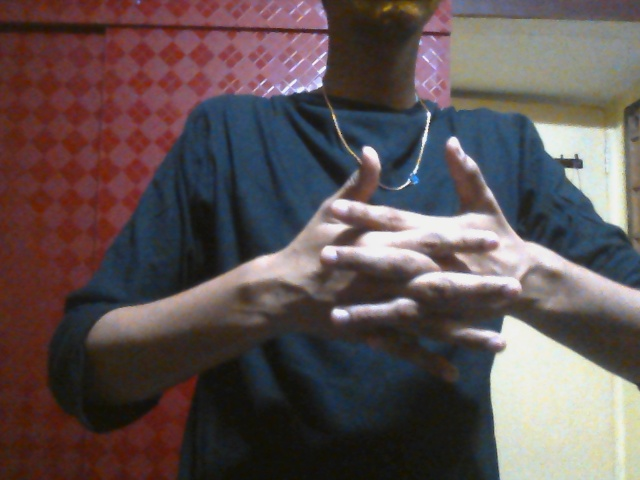W: (291, 135, 534, 387)
